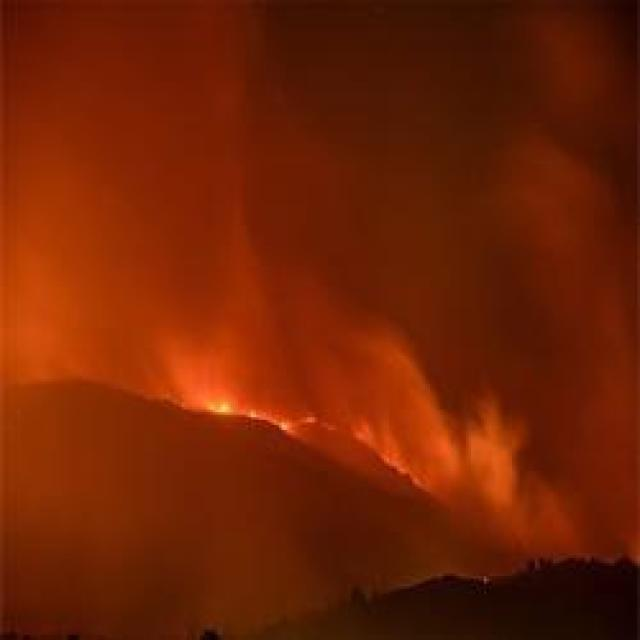Fire: (194, 381, 254, 427)
